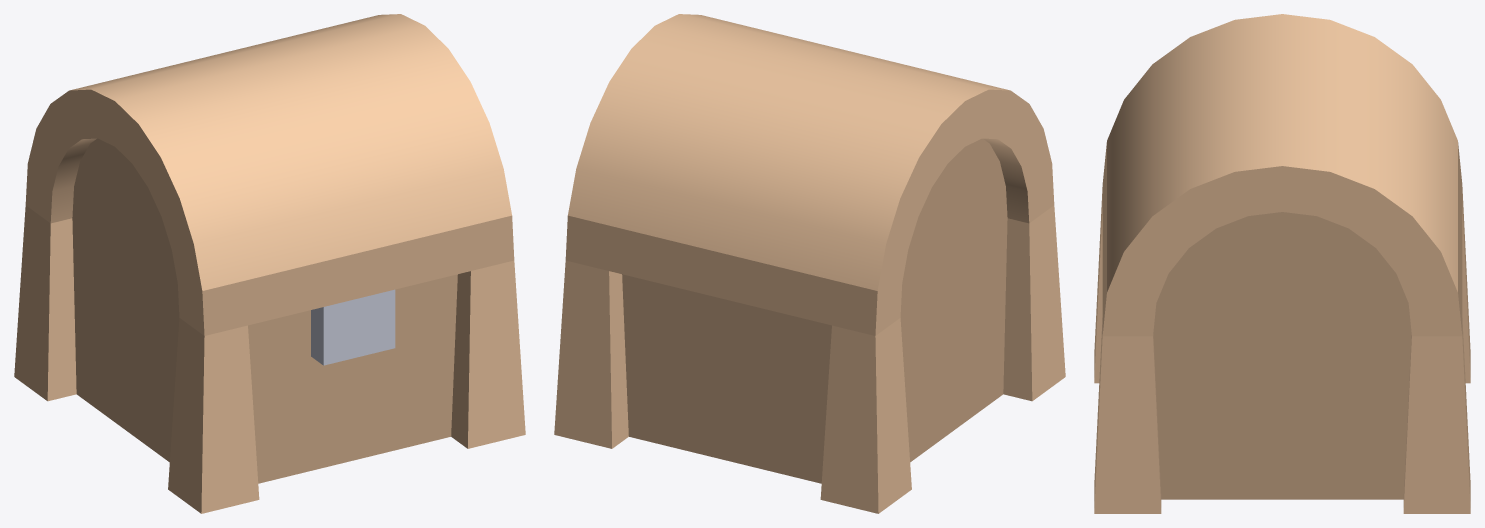
The model's file is chest.glb.
3 views of the same model, side by side, from view 1: azimuth 30°, elevation 25°; view 2: azimuth 150°, elevation 25°; view 3: azimuth 270°, elevation 25° (orthographic).
Parts seen in each view (by area): view 1: lid, chest; view 2: lid, chest; view 3: lid, chest.
Boxes of the visible parts, x1,y1,x2,y2 form: lid: (25, 14, 514, 335); chest: (14, 205, 525, 513); lid: (565, 14, 1054, 335); chest: (554, 205, 1065, 513); lid: (1102, 14, 1462, 336); chest: (1094, 187, 1470, 513).
Size of the model in its own units: 1.04 by 1.05 by 1.04.
